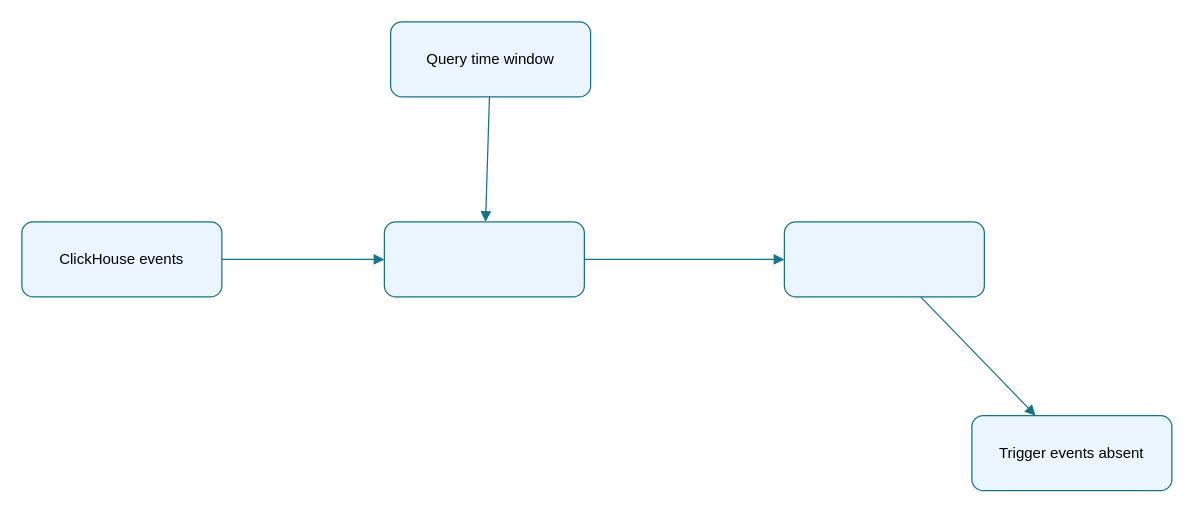
This 1194x513 diagram has some shape labels left out. Here are the shapes that lost their labels. From the top down, the box of each, then its label:
(383, 221, 584, 297): Scheduled SQL rule
(783, 221, 984, 297): Incident limit 100
